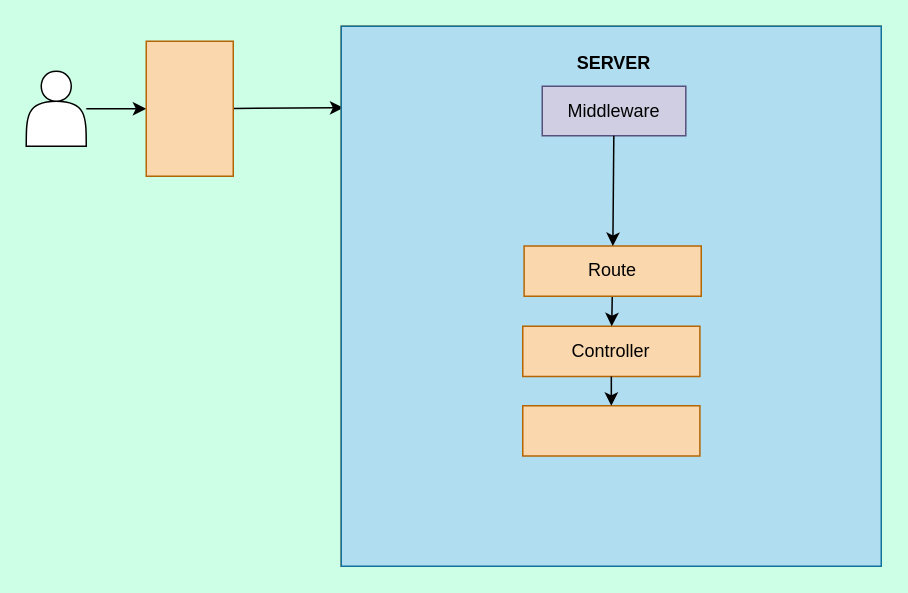
Image size: 908x593. Some labels were removed from this diagram. The centre of each missing label's shape, as x and y in pixels:
"Service" belongs at [610,430].
"UI" belongs at [189,108].
